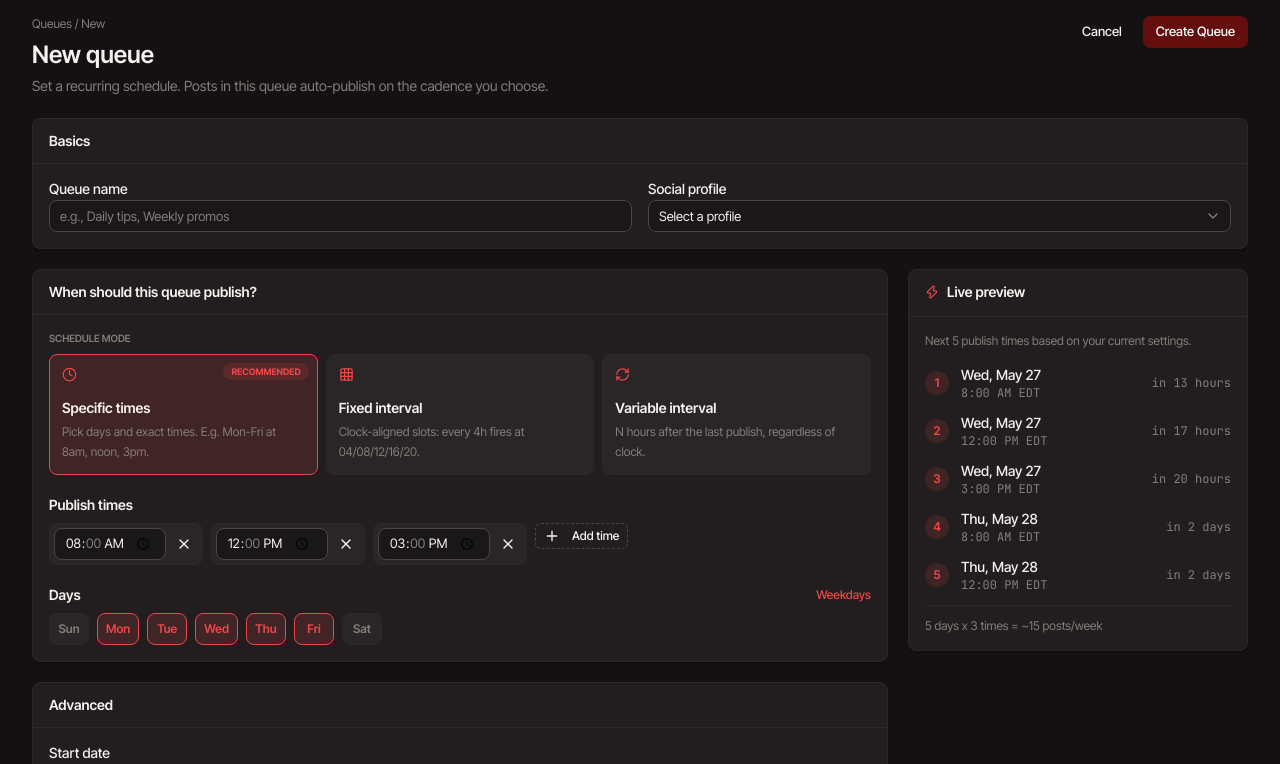
Test: QueueFormPage › shows API validation failures inline beside the submit action
The image size is (1280, 764).
Step 1. Type "CMW Promotions" into the field labelled "Queue name" → (340, 216), box [49,200,632,232]
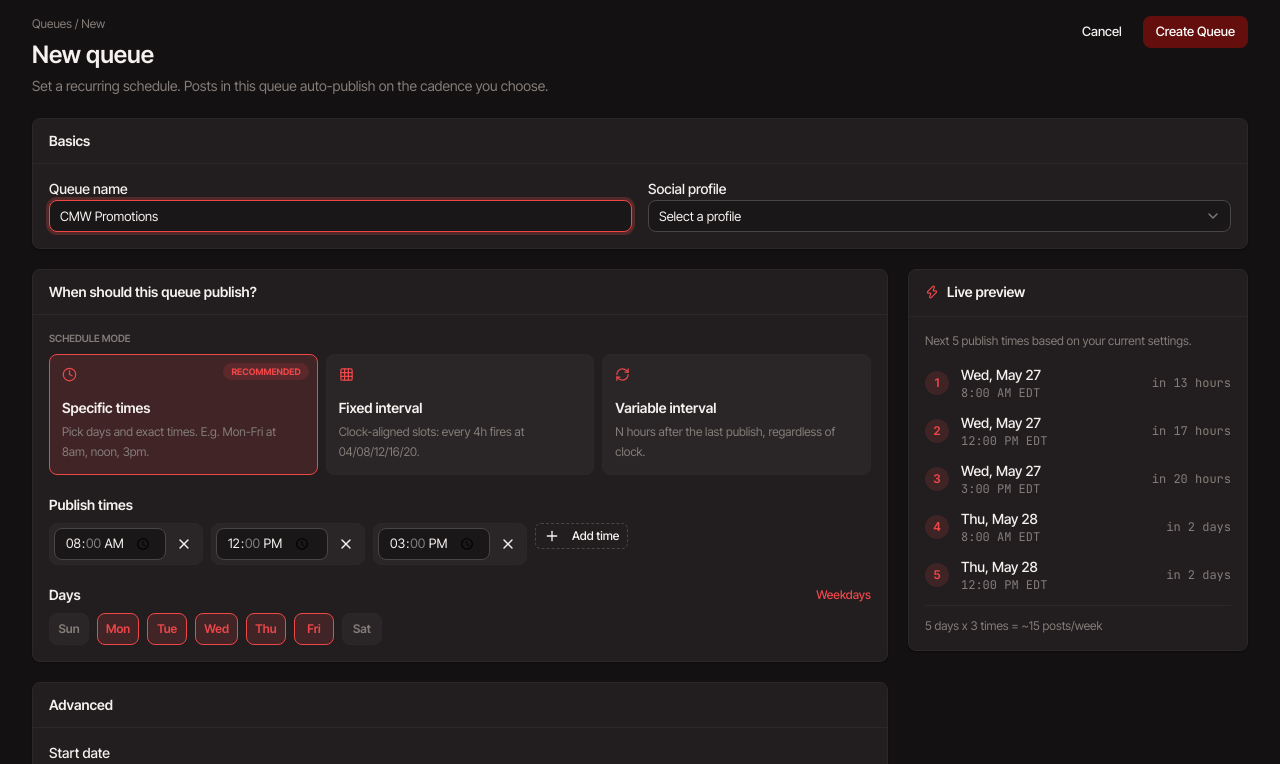
Step 2. Select "Test Profile (@testprofile)" in the dropdown named "Select a profile" → (940, 216), box [648,200,1231,232]
(page scrolled)
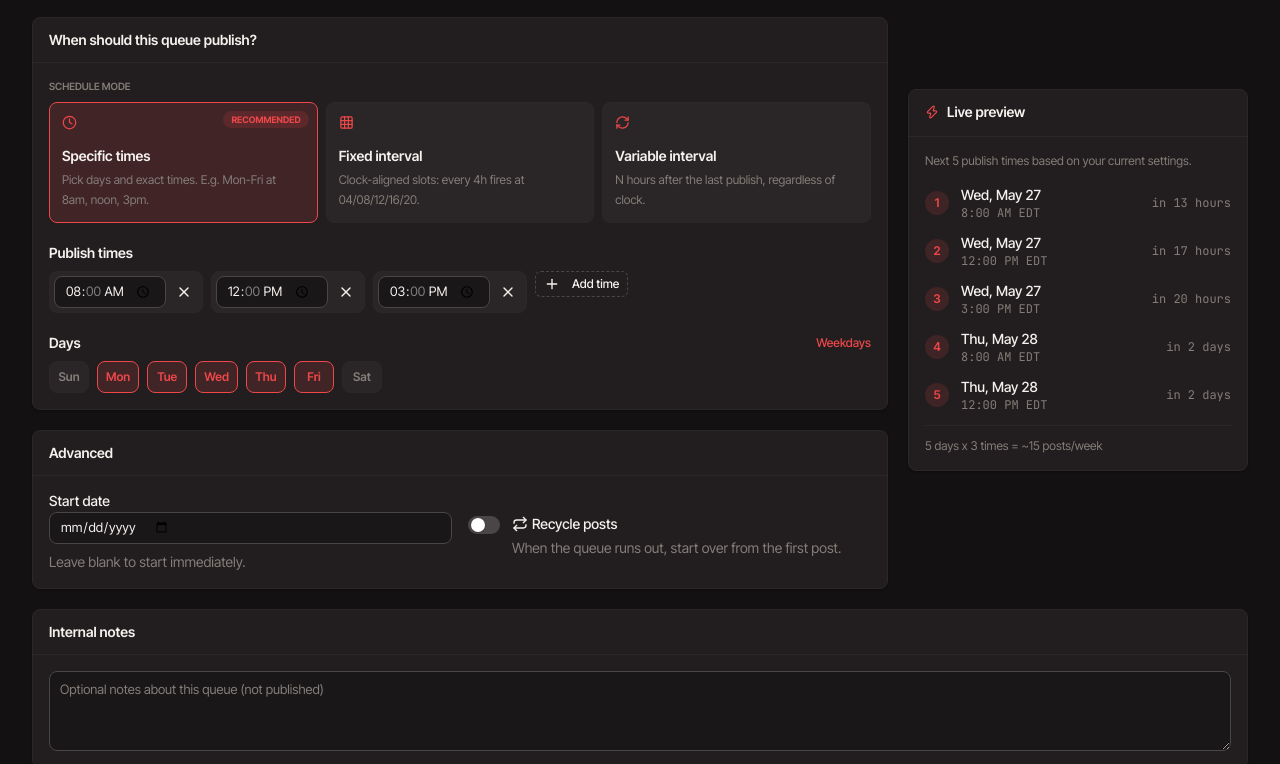
Step 3. Type "2026-05-21" into the date field labelled "Start date" → (250, 528), box [49,512,452,544]
(page scrolled)
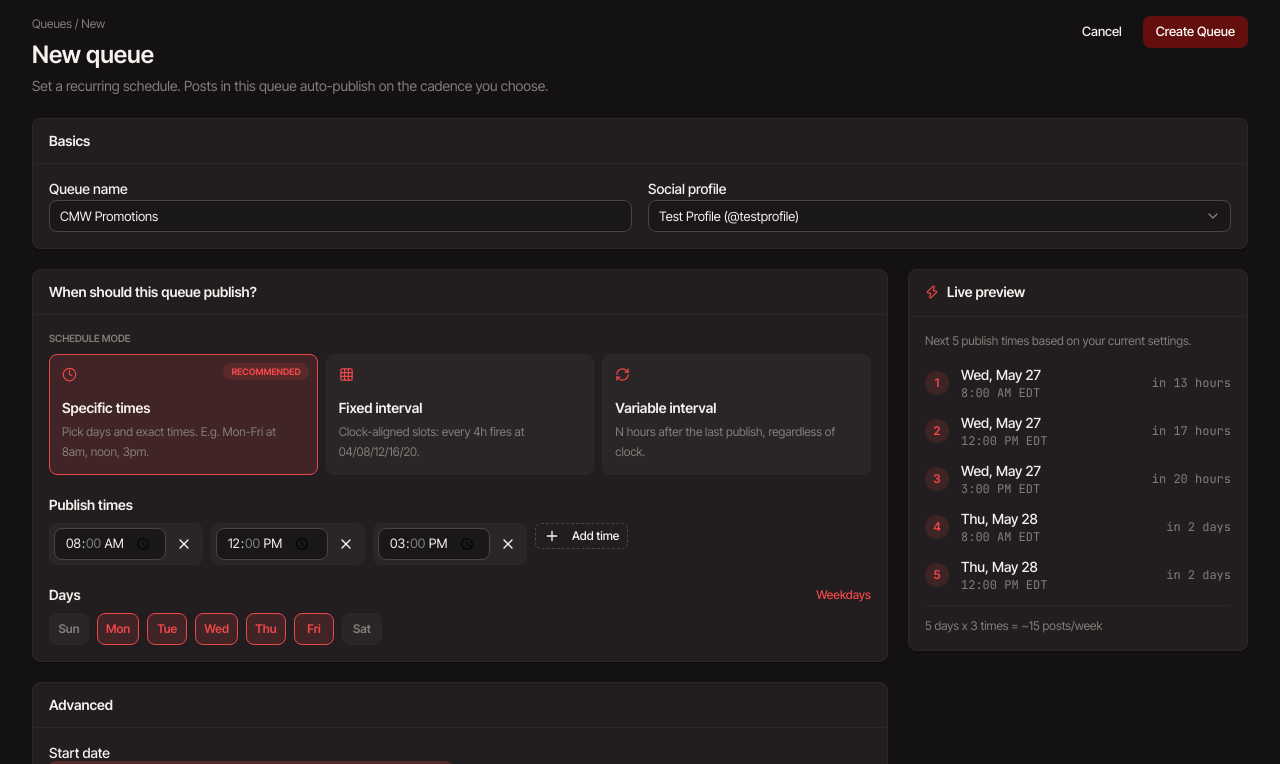
Step 4. Click the button "Create Queue" → (1195, 32), box [1143,16,1248,48]
(page scrolled)
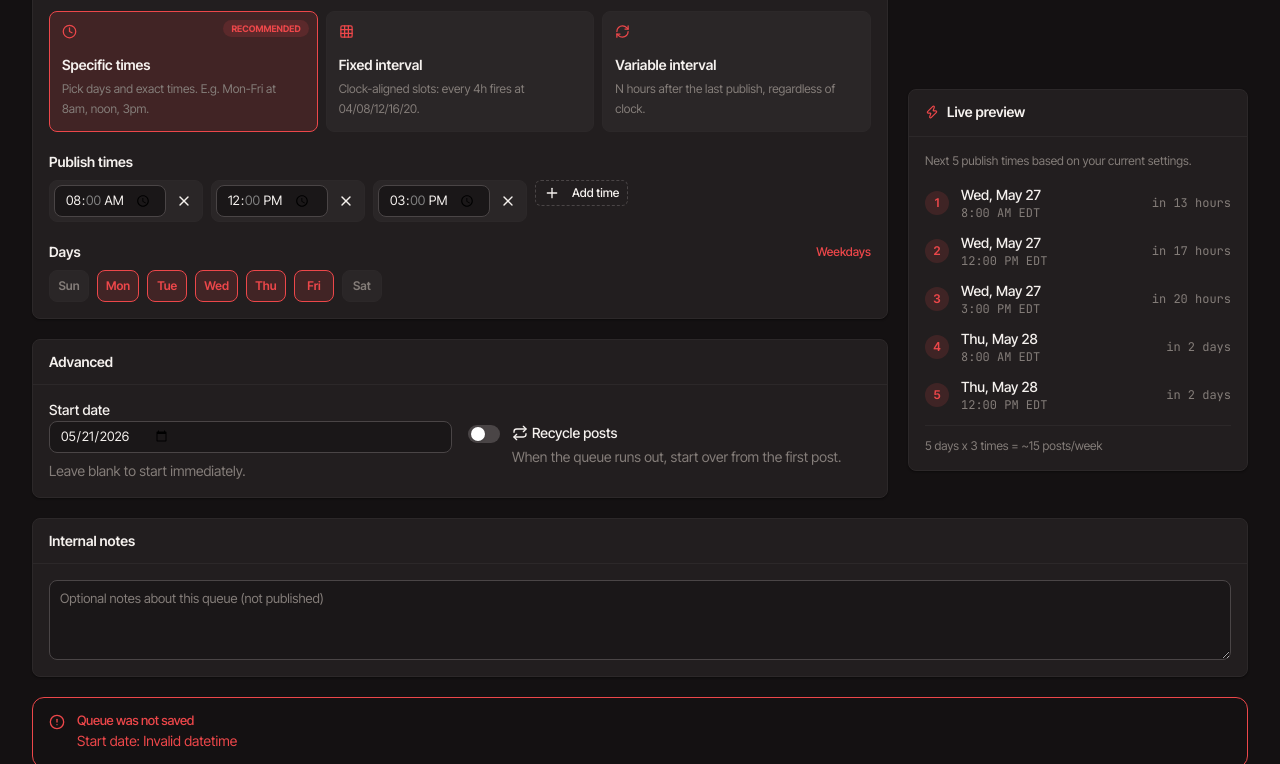
expect the message shows "Start date: Invalid datetime": met, box [77,732,237,748]
